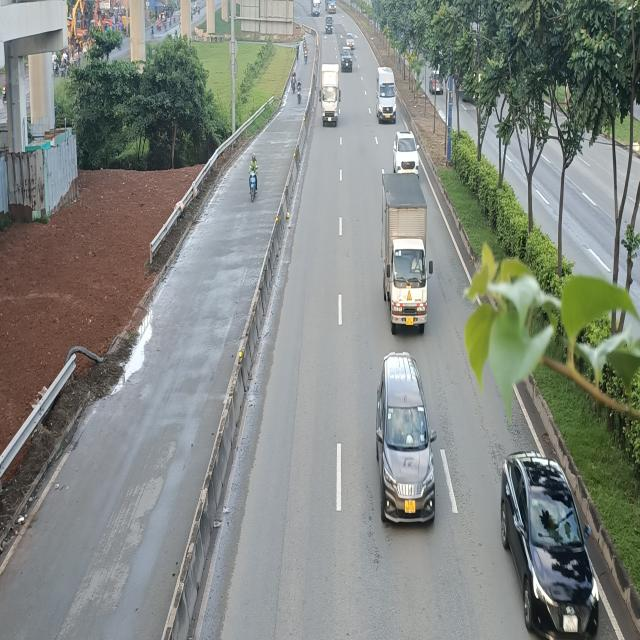car: (503, 455, 604, 637), (373, 354, 434, 525), (393, 130, 421, 173)
truck: (380, 172, 431, 331), (320, 65, 340, 129)
van: (376, 66, 398, 122)
